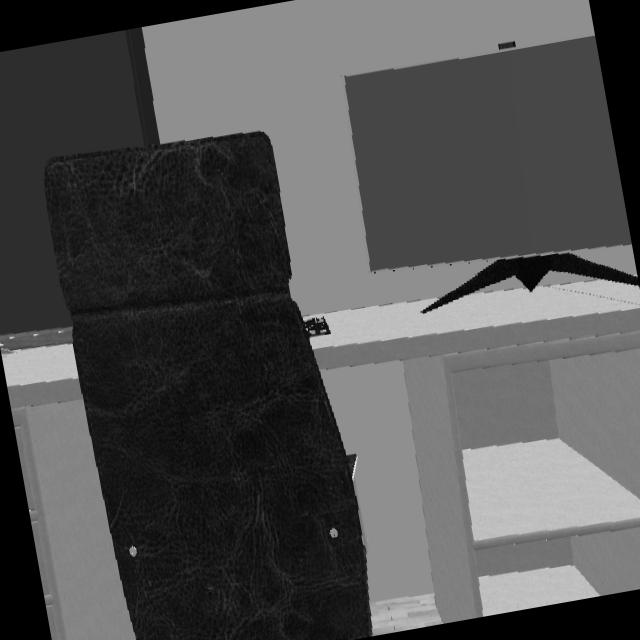monitor: (343, 34, 632, 275)
shelf: (404, 331, 640, 624)
table: (310, 280, 640, 370), (1, 344, 80, 408)
